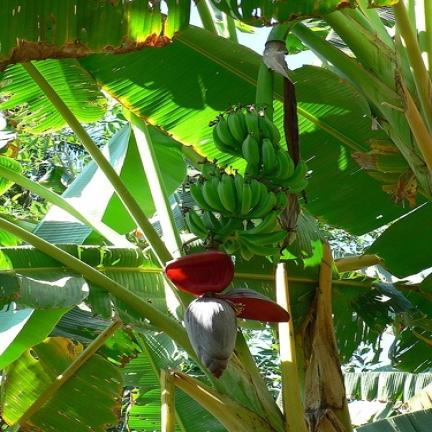banana: (215, 115, 241, 150), (239, 238, 279, 260), (202, 178, 226, 214), (214, 126, 241, 157), (271, 148, 294, 183), (218, 173, 237, 215), (242, 134, 261, 176), (248, 191, 276, 219), (279, 160, 307, 187), (246, 211, 277, 235), (227, 108, 247, 142), (260, 113, 281, 145), (239, 231, 287, 245), (191, 184, 214, 210), (186, 210, 208, 237), (261, 139, 276, 177), (249, 179, 267, 208), (246, 107, 260, 141), (201, 211, 222, 233), (239, 183, 252, 217), (238, 239, 254, 260), (286, 178, 308, 193), (201, 162, 220, 179), (223, 237, 239, 254), (276, 191, 287, 215), (234, 173, 245, 196)
